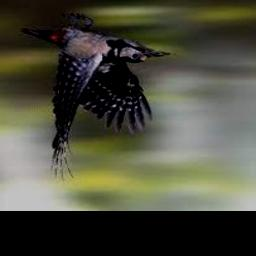Woodpecker: (20, 14, 170, 181)
